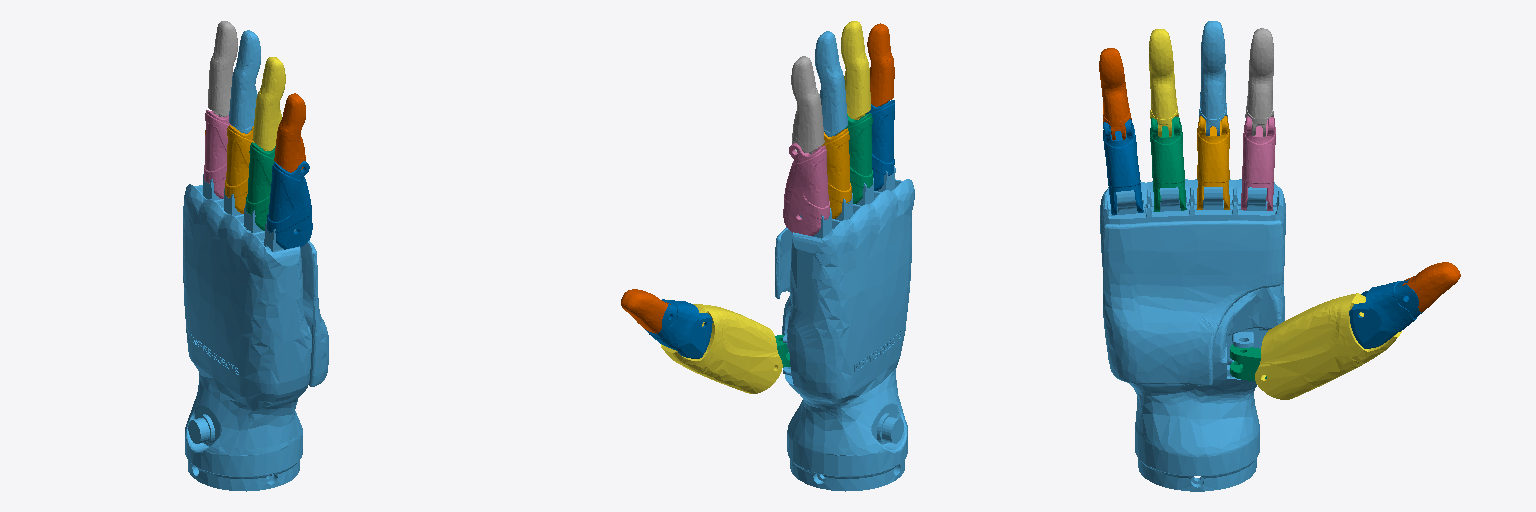
The robot description file, URDF, robot "inspire_hand_right":
<?xml version="1.0" encoding="utf-8"?>
<robot name="inspire_hand_right">
  <link name="base"/>
  <joint name="base_joint" type="fixed">
    <parent link="base"/>
    <child link="hand_base_link"/>
    <origin xyz="0 0 0" rpy="-1.57079 0 3.14159"/>
  </joint>
  <link name="hand_base_link">
    <inertial>
      <origin xyz="-0.0025264 -0.066047 0.0019598" rpy="0 0 0"/>
      <mass value="0.14143"/>
      <inertia ixx="0.00012281" ixy="2.1711E-06" ixz="1.7709E-06" iyy="8.3832E-05" iyz="-1.6551E-06" izz="7.6663E-05"/>
    </inertial>
    <visual>
      <origin xyz="0 0 0" rpy="0 0 0"/>
      <geometry>
        <mesh filename="meshes/visual/right_base_link.stl"/>
      </geometry>
    </visual>
    <collision>
      <origin xyz="0 -0.0136 0" rpy="1.57079 0 0"/>
      <geometry>
        <cylinder length="0.0278" radius="0.028"/>
      </geometry>
    </collision>
    <collision>
      <origin xyz="-0.0032 -0.038 0" rpy="0 0 0"/>
      <geometry>
        <box size="0.0391 0.0202 0.0574"/>
      </geometry>
    </collision>
    <collision>
      <origin xyz="-0.0032 -0.0682 0" rpy="0 0 0"/>
      <geometry>
        <box size="0.0391 0.04 0.0814"/>
      </geometry>
    </collision>
    <collision>
      <origin xyz="0 -0.1081 0" rpy="0 0 0"/>
      <geometry>
        <box size="0.0322 0.04 0.0814"/>
      </geometry>
    </collision>
    <collision>
      <origin xyz="-0.0016 -0.1340 0.0309" rpy="0 0 0"/>
      <geometry>
        <box size="0.0125 0.0111 0.0089"/>
      </geometry>
    </collision>
    <collision>
      <origin xyz="-0.0016 -0.1340 0.0118" rpy="0 0 0"/>
      <geometry>
        <box size="0.0125 0.0111 0.0089"/>
      </geometry>
    </collision>
    <collision>
      <origin xyz="-0.0016 -0.1340 -0.0070" rpy="0 0 0"/>
      <geometry>
        <box size="0.0125 0.0111 0.0089"/>
      </geometry>
    </collision>
    <collision>
      <origin xyz="-0.0016 -0.1340 -0.0262" rpy="0 0 0"/>
      <geometry>
        <box size="0.0125 0.0111 0.0089"/>
      </geometry>
    </collision>
  </link>
  <link name="thumb_proximal_base">
    <inertial>
      <origin xyz="-0.0048064 0.0009382 -0.00757" rpy="0 0 0"/>
      <mass value="0.0018869"/>
      <inertia ixx="5.816E-08" ixy="1.4539E-08" ixz="4.491E-09" iyy="7.9161E-08" iyz="-1.8727E-09" izz="6.7433E-08"/>
    </inertial>
    <visual>
      <origin xyz="0 0 0" rpy="0 0 0"/>
      <geometry>
        <mesh filename="meshes/visual/right_thumb_proximal_base.stl"/>
      </geometry>
    </visual>
    <collision>
      <origin xyz="0 0 0" rpy="0 0 0"/>
      <geometry>
        <mesh filename="meshes/collision/right_thumb_proximal_base.obj"/>
      </geometry>
    </collision>
  </link>
  <joint name="thumb_proximal_yaw_joint" type="revolute">
    <origin xyz="-0.01696 -0.0691 -0.02045" rpy="1.5708 -1.5708 0"/>
    <parent link="hand_base_link"/>
    <child link="thumb_proximal_base"/>
    <axis xyz="0 0 -1"/>
    <limit lower="0.0" upper="1.308" effort="1" velocity="0.5"/>
  </joint>
  <link name="thumb_proximal">
    <inertial>
      <origin xyz="0.021932 0.012785 -0.0080386" rpy="0 0 0"/>
      <mass value="0.0066075"/>
      <inertia ixx="1.5686E-06" ixy="-7.8296E-07" ixz="8.9143E-10" iyy="1.7353E-06" iyz="-1.0191E-09" izz="2.786E-06"/>
    </inertial>
    <visual>
      <origin xyz="0 0 0" rpy="0 0 0"/>
      <geometry>
        <mesh filename="meshes/visual/right_thumb_proximal.stl"/>
      </geometry>
    </visual>
    <collision>
      <origin xyz="0 0 0" rpy="0 0 0"/>
      <geometry>
        <mesh filename="meshes/collision/right_thumb_proximal.obj"/>
      </geometry>
    </collision>
  </link>
  <joint name="thumb_proximal_pitch_joint" type="revolute">
    <origin xyz="-0.0088099 0.010892 -0.00925" rpy="1.5708 0 2.8587"/>
    <parent link="thumb_proximal_base"/>
    <child link="thumb_proximal"/>
    <axis xyz="0 0 1"/>
    <limit lower="0" upper="0.6" effort="1" velocity="0.5"/>
  </joint>
  <link name="thumb_intermediate">
    <inertial>
      <origin xyz="0.0095544 -0.0016282 -0.0071997" rpy="0 0 0"/>
      <mass value="0.0037847"/>
      <inertia ixx="3.6981E-07" ixy="-9.8581E-08" ixz="-4.7469E-12" iyy="3.2394E-07" iyz="1.0939E-12" izz="4.6531E-07"/>
    </inertial>
    <visual>
      <origin xyz="0 0 0" rpy="0 0 0"/>
      <geometry>
        <mesh filename="meshes/visual/right_thumb_intermediate.stl"/>
      </geometry>
    </visual>
    <collision>
      <origin xyz="0 0 0" rpy="0 0 0"/>
      <geometry>
        <mesh filename="meshes/collision/right_thumb_intermediate.obj"/>
      </geometry>
    </collision>
  </link>
  <joint name="thumb_intermediate_joint" type="revolute">
    <origin xyz="0.04407 0.034553 -0.0008" rpy="0 0 0"/>
    <parent link="thumb_proximal"/>
    <child link="thumb_intermediate"/>
    <axis xyz="0 0 1"/>
    <limit lower="0" upper="0.8" effort="1" velocity="0.5"/>
    <mimic joint="thumb_proximal_pitch_joint" multiplier="1.334" offset="0"/>
  </joint>
  <link name="thumb_distal">
    <inertial>
      <origin xyz="0.0092888 0.0049529 -0.0060033" rpy="0 0 0"/>
      <mass value="0.0033441"/>
      <inertia ixx="1.3632E-07" ixy="-5.6788E-08" ixz="-9.2764E-11" iyy="1.4052E-07" iyz="-1.2283E-10" izz="2.0026E-07"/>
    </inertial>
    <visual>
      <origin xyz="0 0 0" rpy="0 0 0"/>
      <geometry>
        <mesh filename="meshes/visual/right_thumb_distal.stl"/>
      </geometry>
    </visual>
    <collision>
      <origin xyz="0 0 0" rpy="0 0 0"/>
      <geometry>
        <mesh filename="meshes/collision/right_thumb_distal.obj"/>
      </geometry>
    </collision>
  </link>
  <joint name="thumb_distal_joint" type="revolute">
    <origin xyz="0.020248 0.010156 -0.0012" rpy="0 0 0"/>
    <parent link="thumb_intermediate"/>
    <child link="thumb_distal"/>
    <axis xyz="0 0 1"/>
    <limit lower="0" upper="0.4" effort="1" velocity="0.5"/>
    <mimic joint="thumb_proximal_pitch_joint" multiplier="0.667" offset="0"/>
  </joint>
  <link name="index_proximal">
    <inertial>
      <origin xyz="0.0012259 0.011942 -0.0060001" rpy="0 0 0"/>
      <mass value="0.0042403"/>
      <inertia ixx="6.6232E-07" ixy="-1.5775E-08" ixz="1.8515E-12" iyy="2.1146E-07" iyz="-5.0828E-12" izz="6.9398E-07"/>
    </inertial>
    <visual>
      <origin xyz="0 0 0" rpy="0 0 0"/>
      <geometry>
        <mesh filename="meshes/visual/right_index_proximal.stl"/>
      </geometry>
    </visual>
    <collision>
      <origin xyz="0 0 0" rpy="0 0 0"/>
      <geometry>
        <mesh filename="meshes/collision/right_index_proximal.obj"/>
      </geometry>
    </collision>
  </link>
  <joint name="index_proximal_joint" type="revolute">
    <origin xyz="0.00028533 -0.13653 -0.032268" rpy="-3.1067 0 0"/>
    <parent link="hand_base_link"/>
    <child link="index_proximal"/>
    <axis xyz="0 0 1"/>
    <limit lower="0" upper="1.47" effort="1" velocity="0.5"/>
  </joint>
  <link name="index_intermediate">
    <inertial>
      <origin xyz="0.0019697 0.019589 -0.005" rpy="0 0 0"/>
      <mass value="0.0045683"/>
      <inertia ixx="7.6111E-07" ixy="8.7637E-08" ixz="-3.7751E-13" iyy="9.6076E-08" iyz="9.9444E-13" izz="7.8179E-07"/>
    </inertial>
    <visual>
      <origin xyz="0 0 0" rpy="0 0 0"/>
      <geometry>
        <mesh filename="meshes/visual/right_index_intermediate.stl"/>
      </geometry>
    </visual>
    <collision>
      <origin xyz="0 0 0" rpy="0 0 0"/>
      <geometry>
        <mesh filename="meshes/collision/right_index_intermediate.obj"/>
      </geometry>
    </collision>
  </link>
  <joint name="index_intermediate_joint" type="revolute">
    <origin xyz="-0.0026138 0.032026 -0.001" rpy="0 0 0"/>
    <parent link="index_proximal"/>
    <child link="index_intermediate"/>
    <axis xyz="0 0 1"/>
    <limit lower="-0.04545" upper="1.56" effort="1" velocity="0.5"/>
    <mimic joint="index_proximal_joint" multiplier="1.06399" offset="-0.04545"/>
  </joint>
  <link name="middle_proximal">
    <inertial>
      <origin xyz="0.001297 0.011934 -0.0060001" rpy="0 0 0"/>
      <mass value="0.0042403"/>
      <inertia ixx="6.6211E-07" ixy="-1.8461E-08" ixz="1.8002E-12" iyy="2.1167E-07" iyz="-6.6808E-12" izz="6.9397E-07"/>
    </inertial>
    <visual>
      <origin xyz="0 0 0" rpy="0 0 0"/>
      <geometry>
        <mesh filename="meshes/visual/right_index_proximal.stl"/>
      </geometry>
    </visual>
    <collision>
      <origin xyz="0 0 0" rpy="0 0 0"/>
      <geometry>
        <mesh filename="meshes/collision/right_index_proximal.obj"/>
      </geometry>
    </collision>
  </link>
  <joint name="middle_proximal_joint" type="revolute">
    <origin xyz="0.00028533 -0.1371 -0.01295" rpy="-3.1416 0 0"/>
    <parent link="hand_base_link"/>
    <child link="middle_proximal"/>
    <axis xyz="0 0 1"/>
    <limit lower="0" upper="1.47" effort="1" velocity="0.5"/>
  </joint>
  <link name="middle_intermediate">
    <inertial>
      <origin xyz="0.001921 0.020796 -0.005" rpy="0 0 0"/>
      <mass value="0.0050396"/>
      <inertia ixx="9.5822E-07" ixy="1.1425E-07" ixz="-2.4791E-12" iyy="1.0646E-07" iyz="5.9173E-12" izz="9.8384E-07"/>
    </inertial>
    <visual>
      <origin xyz="0 0 0" rpy="0 0 0"/>
      <geometry>
        <mesh filename="meshes/visual/right_middle_intermediate.stl"/>
      </geometry>
    </visual>
    <collision>
      <origin xyz="0 0 0" rpy="0 0 0"/>
      <geometry>
        <mesh filename="meshes/collision/right_middle_intermediate.obj"/>
      </geometry>
    </collision>
  </link>
  <joint name="middle_intermediate_joint" type="revolute">
    <origin xyz="-0.0024229 0.032041 -0.001" rpy="0 0 0"/>
    <parent link="middle_proximal"/>
    <child link="middle_intermediate"/>
    <axis xyz="0 0 1"/>
    <limit lower="-0.04545" upper="1.56" effort="1" velocity="0.5"/>
    <mimic joint="middle_proximal_joint" multiplier="1.06399" offset="-0.04545"/>
  </joint>
  <link name="ring_proximal">
    <inertial>
      <origin xyz="0.001297 0.011934 -0.0060002" rpy="0 0 0"/>
      <mass value="0.0042403"/>
      <inertia ixx="6.6211E-07" ixy="-1.8461E-08" ixz="1.5793E-12" iyy="2.1167E-07" iyz="-6.6868E-12" izz="6.9397E-07"/>
    </inertial>
    <visual>
      <origin xyz="0 0 0" rpy="0 0 0"/>
      <geometry>
        <mesh filename="meshes/visual/right_index_proximal.stl"/>
      </geometry>
    </visual>
    <collision>
      <origin xyz="0 0 0" rpy="0 0 0"/>
      <geometry>
        <mesh filename="meshes/collision/right_index_proximal.obj"/>
      </geometry>
    </collision>
  </link>
  <joint name="ring_proximal_joint" type="revolute">
    <origin xyz="0.00028533 -0.13691 0.0062872" rpy="3.0892 0 0"/>
    <parent link="hand_base_link"/>
    <child link="ring_proximal"/>
    <axis xyz="0 0 1"/>
    <limit lower="0" upper="1.47" effort="1" velocity="0.5"/>
  </joint>
  <link name="ring_intermediate">
    <inertial>
      <origin xyz="0.0021753 0.019567 -0.005" rpy="0 0 0"/>
      <mass value="0.0045683"/>
      <inertia ixx="7.6286E-07" ixy="8.0635E-08" ixz="-6.1562E-13" iyy="9.431E-08" iyz="5.8619E-13" izz="7.8177E-07"/>
    </inertial>
    <visual>
      <origin xyz="0 0 0" rpy="0 0 0"/>
      <geometry>
        <mesh filename="meshes/visual/right_index_intermediate.stl"/>
      </geometry>
    </visual>
    <collision>
      <origin xyz="0 0 0" rpy="0 0 0"/>
      <geometry>
        <mesh filename="meshes/collision/right_index_intermediate.obj"/>
      </geometry>
    </collision>
  </link>
  <joint name="ring_intermediate_joint" type="revolute">
    <origin xyz="-0.0024229 0.032041 -0.001" rpy="0 0 0"/>
    <parent link="ring_proximal"/>
    <child link="ring_intermediate"/>
    <axis xyz="0 0 1"/>
    <limit lower="-0.04545" upper="1.56" effort="1" velocity="0.5"/>
    <mimic joint="ring_proximal_joint" multiplier="1.06399" offset="-0.04545"/>
  </joint>
  <link name="pinky_proximal">
    <inertial>
      <origin xyz="0.001297 0.011934 -0.0060001" rpy="0 0 0"/>
      <mass value="0.0042403"/>
      <inertia ixx="6.6211E-07" ixy="-1.8461E-08" ixz="1.6907E-12" iyy="2.1167E-07" iyz="-6.9334E-12" izz="6.9397E-07"/>
    </inertial>
    <visual>
      <origin xyz="0 0 0" rpy="0 0 0"/>
      <geometry>
        <mesh filename="meshes/visual/right_index_proximal.stl"/>
      </geometry>
    </visual>
    <collision>
      <origin xyz="0 0 0" rpy="0 0 0"/>
      <geometry>
        <mesh filename="meshes/collision/right_index_proximal.obj"/>
      </geometry>
    </collision>
  </link>
  <joint name="pinky_proximal_joint" type="revolute">
    <origin xyz="0.00028533 -0.13571 0.025488" rpy="3.0369 0 0"/>
    <parent link="hand_base_link"/>
    <child link="pinky_proximal"/>
    <axis xyz="0 0 1"/>
    <limit lower="0" upper="1.47" effort="1" velocity="0.5"/>
  </joint>
  <link name="pinky_intermediate">
    <inertial>
      <origin xyz="0.0024748 0.016203 -0.0050031" rpy="0 0 0"/>
      <mass value="0.0035996"/>
      <inertia ixx="4.3913E-07" ixy="4.1418E-08" ixz="3.7168E-11" iyy="7.0247E-08" iyz="5.8613E-11" izz="4.4867E-07"/>
    </inertial>
    <visual>
      <origin xyz="0 0 0" rpy="0 0 0"/>
      <geometry>
        <mesh filename="meshes/visual/right_pinky_intermediate.stl"/>
      </geometry>
    </visual>
    <collision>
      <origin xyz="0 0 0" rpy="0 0 0"/>
      <geometry>
        <mesh filename="meshes/collision/right_pinky_intermediate.obj"/>
      </geometry>
    </collision>
  </link>
  <joint name="pinky_intermediate_joint" type="revolute">
    <origin xyz="-0.0024229 0.032041 -0.001" rpy="0 0 0"/>
    <parent link="pinky_proximal"/>
    <child link="pinky_intermediate"/>
    <axis xyz="0 0 1"/>
    <limit lower="-0.04545" upper="1.56" effort="1" velocity="0.5"/>
    <mimic joint="pinky_proximal_joint" multiplier="1.06399" offset="-0.04545"/>
  </joint>

  <link name='thumb_tip'/>
  <joint name="thumb_tip_joint" type="fixed">
    <origin xyz="0.0202 0.0140 -0.006" rpy="0 0 0"/>
    <parent link="thumb_distal"/>
    <child link="thumb_tip"/>
  </joint>
  <link name='index_tip'/>
  <joint name="index_tip_joint" type="fixed">
    <origin xyz="-0.0008 0.045 -0.005" rpy="0 0 0"/>
    <parent link="index_intermediate"/>
    <child link="index_tip"/>
  </joint>
  <link name='middle_tip'/>
  <joint name="middle_tip_joint" type="fixed">
    <origin xyz="-0.001 0.048 -0.005" rpy="0 0 0"/>
    <parent link="middle_intermediate"/>
    <child link="middle_tip"/>
  </joint>
  <link name='ring_tip'/>
  <joint name="ring_tip_joint" type="fixed">
    <origin xyz="-0.0008 0.045 -0.005" rpy="0 0 0"/>
    <parent link="ring_intermediate"/>
    <child link="ring_tip"/>
  </joint>
  <link name='pinky_tip'/>
  <joint name="pinky_tip_joint" type="fixed">
    <origin xyz="-0.0008 0.037 -0.005" rpy="0 0 0"/>
    <parent link="pinky_intermediate"/>
    <child link="pinky_tip"/>
  </joint>
</robot>

--- What the picture shows (computed from the rendered views, not written in the file) ---
Views: 3 orthographic renders of the robot side by side, from view 1: azimuth 30°, elevation 25°; view 2: azimuth 150°, elevation 25°; view 3: azimuth 270°, elevation 25°.
Model inspire_hand_right with 19 links and 18 joints (12 revolute, 6 fixed), rooted at base, posed every joint at zero.
Links seen in each view (by area): view 1: hand_base_link, pinky_proximal, middle_intermediate, ring_intermediate, index_intermediate, pinky_intermediate, ring_proximal, middle_proximal, index_proximal; view 2: hand_base_link, thumb_proximal, index_proximal, thumb_intermediate, middle_intermediate, index_intermediate, ring_intermediate, pinky_intermediate, ring_proximal, middle_proximal, pinky_proximal, thumb_distal; view 3: hand_base_link, thumb_proximal, thumb_intermediate, middle_intermediate, ring_intermediate, index_intermediate, ring_proximal, index_proximal, pinky_proximal, middle_proximal, pinky_intermediate, thumb_distal (+1 smaller).
Boxes of the visible links, x1=… form: hand_base_link: x1=183, y1=174, x2=328, y2=491; pinky_proximal: x1=267, y1=161, x2=312, y2=249; middle_intermediate: x1=229, y1=30, x2=260, y2=133; ring_intermediate: x1=252, y1=57, x2=285, y2=150; index_intermediate: x1=208, y1=21, x2=237, y2=116; pinky_intermediate: x1=274, y1=93, x2=305, y2=172; ring_proximal: x1=246, y1=142, x2=275, y2=230; middle_proximal: x1=225, y1=125, x2=253, y2=213; index_proximal: x1=204, y1=110, x2=231, y2=198; hand_base_link: x1=775, y1=166, x2=914, y2=491; thumb_proximal: x1=661, y1=304, x2=782, y2=393; index_proximal: x1=783, y1=143, x2=829, y2=235; thumb_intermediate: x1=645, y1=299, x2=712, y2=358; middle_intermediate: x1=815, y1=31, x2=847, y2=136; index_intermediate: x1=791, y1=56, x2=824, y2=153; ring_intermediate: x1=841, y1=21, x2=870, y2=119; pinky_intermediate: x1=867, y1=23, x2=894, y2=106; ring_proximal: x1=845, y1=113, x2=872, y2=203; middle_proximal: x1=822, y1=128, x2=851, y2=218; pinky_proximal: x1=866, y1=100, x2=894, y2=190; thumb_distal: x1=621, y1=289, x2=670, y2=333; hand_base_link: x1=1100, y1=179, x2=1285, y2=491; thumb_proximal: x1=1255, y1=293, x2=1401, y2=399; thumb_intermediate: x1=1349, y1=279, x2=1422, y2=348; middle_intermediate: x1=1199, y1=21, x2=1227, y2=135; ring_intermediate: x1=1149, y1=29, x2=1178, y2=136; index_intermediate: x1=1245, y1=28, x2=1273, y2=136; ring_proximal: x1=1150, y1=117, x2=1186, y2=211; index_proximal: x1=1241, y1=116, x2=1275, y2=210; pinky_proximal: x1=1103, y1=119, x2=1143, y2=214; middle_proximal: x1=1197, y1=116, x2=1229, y2=209; pinky_intermediate: x1=1099, y1=48, x2=1131, y2=140; thumb_distal: x1=1402, y1=262, x2=1460, y2=312.
Bounding box of the posed robot: 0.0816 × 0.1581 × 0.218 m (x, y, z).
13 mesh visuals loaded from 9 distinct referenced files (9 binary STL).
